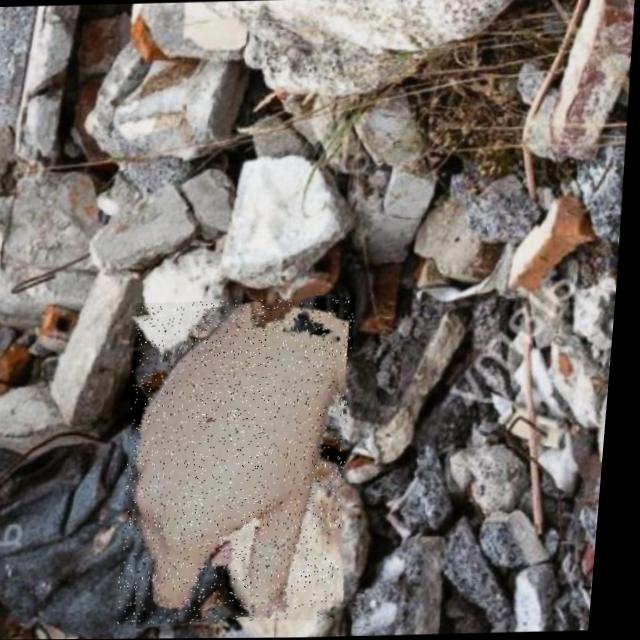Person in Rubble: (120, 297, 366, 624)
